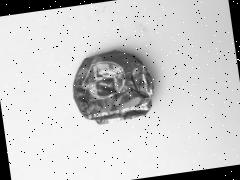metal: (36, 20, 176, 150)
